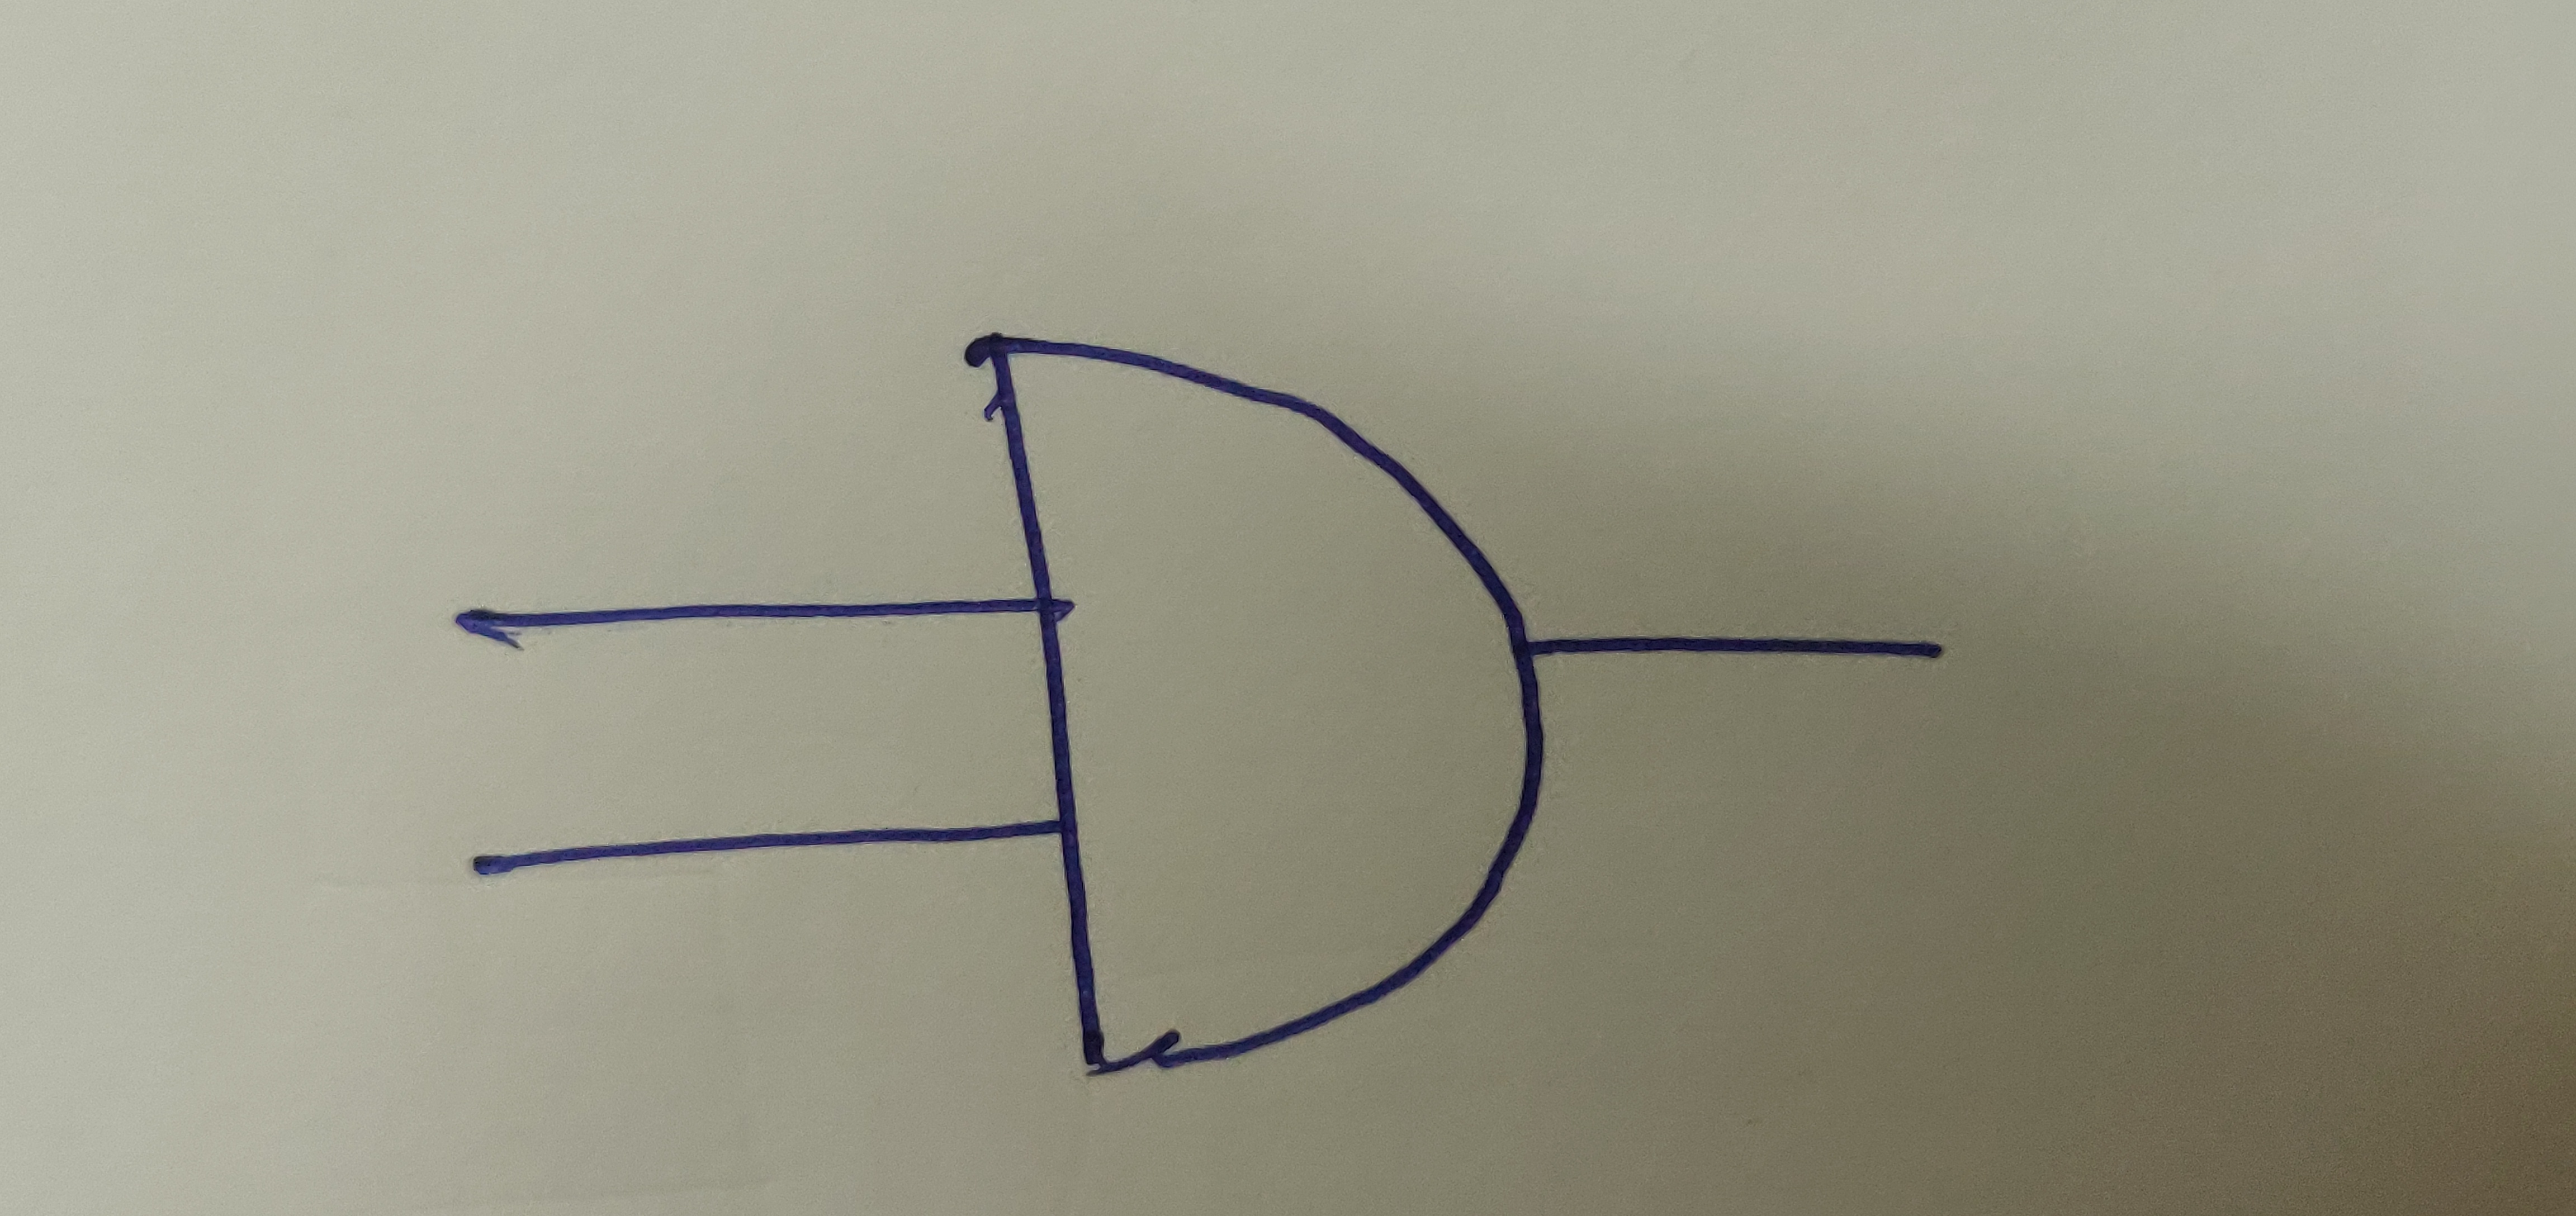and: (966, 324, 1554, 1075)
